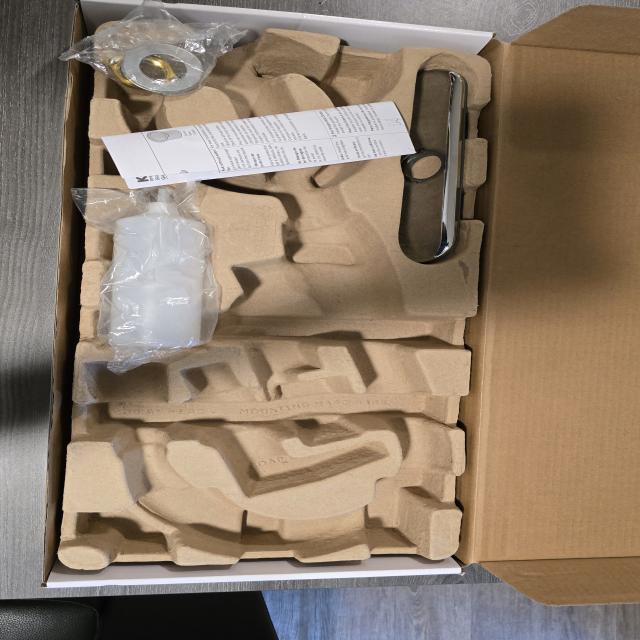1m: (89, 36, 441, 559)
2m: (181, 364, 387, 496)
3: (99, 182, 207, 349)
4o: (398, 69, 468, 261)
5m: (322, 66, 392, 117)
6: (54, 0, 247, 102)
7m: (103, 123, 225, 183)
8: (96, 100, 420, 190)
